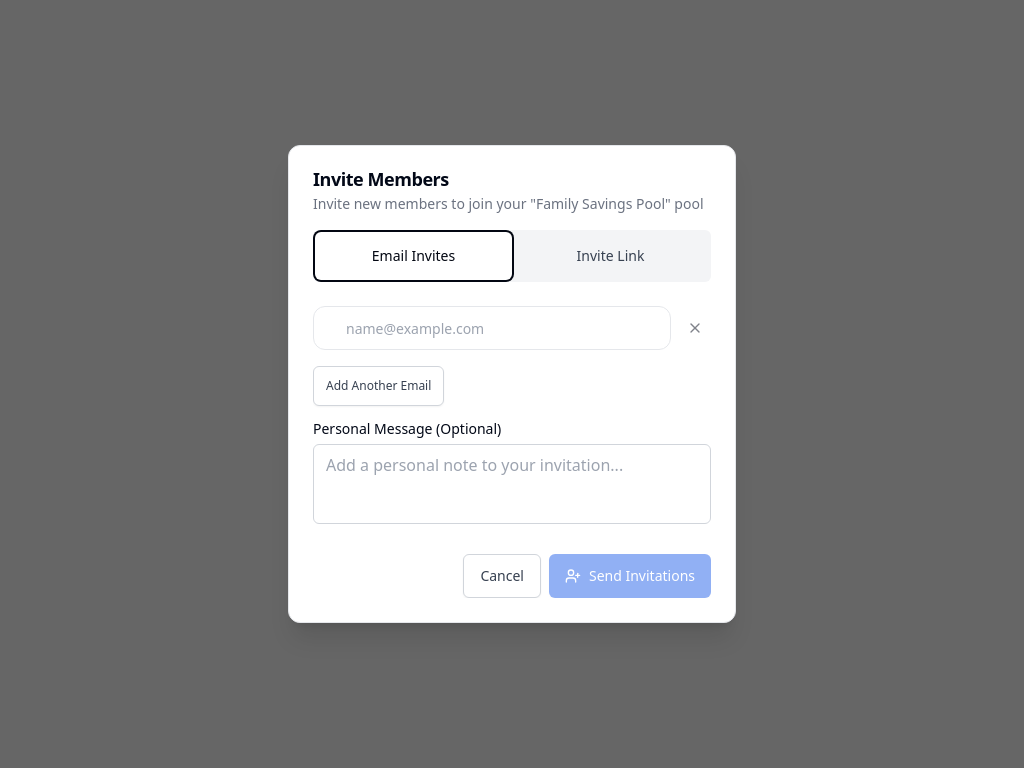
Test: InviteMembersDialog Component › Email Invites Tab › removes email field when remove button is clicked
// Add two more email fields
Step 1. Click the button "Add Another Email" → (379, 386), box [313, 366, 444, 406]
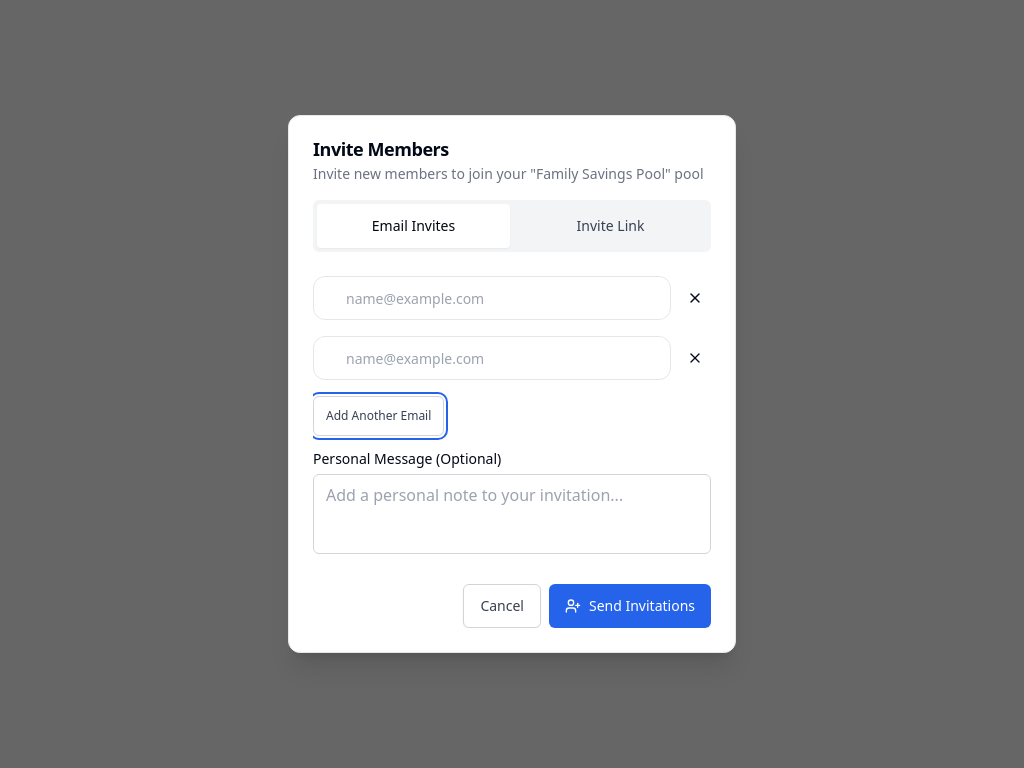
Step 2. Click the button "Add Another Email" → (379, 416), box [313, 396, 444, 436]
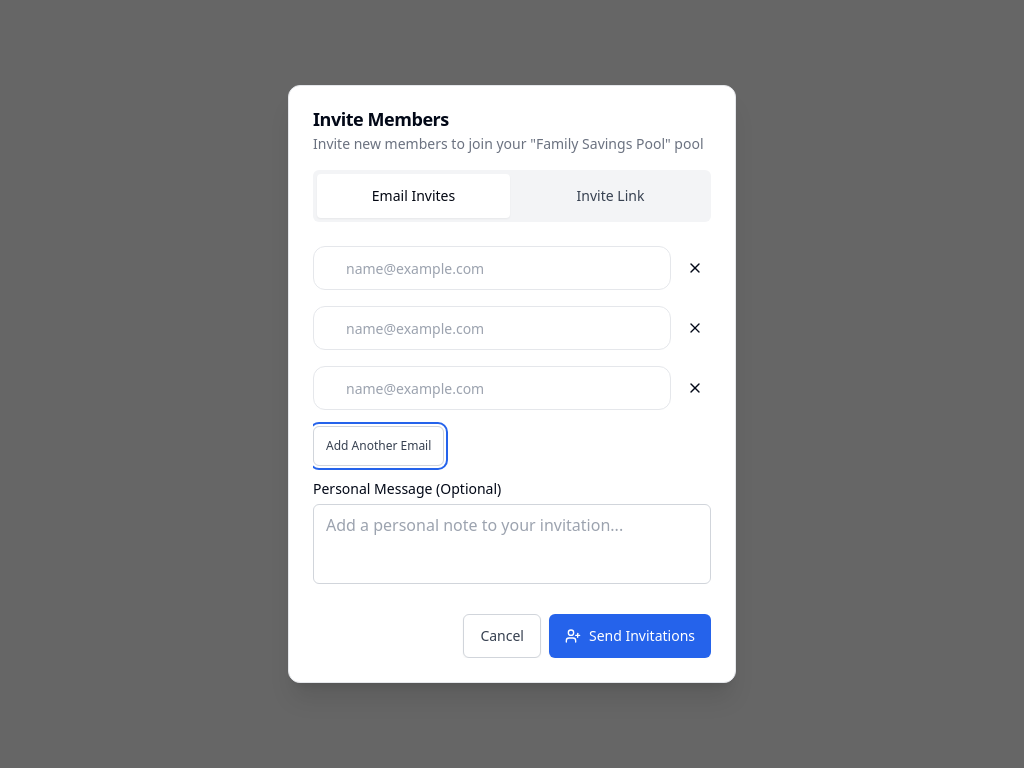
Result: the number of fields with placeholder "name@example.com" is 3 at [313, 246, 671, 290]; [313, 306, 671, 350]; [313, 366, 671, 410]
Step 3. Click the button named "Remove email 1" → (695, 268), box [679, 250, 711, 286]
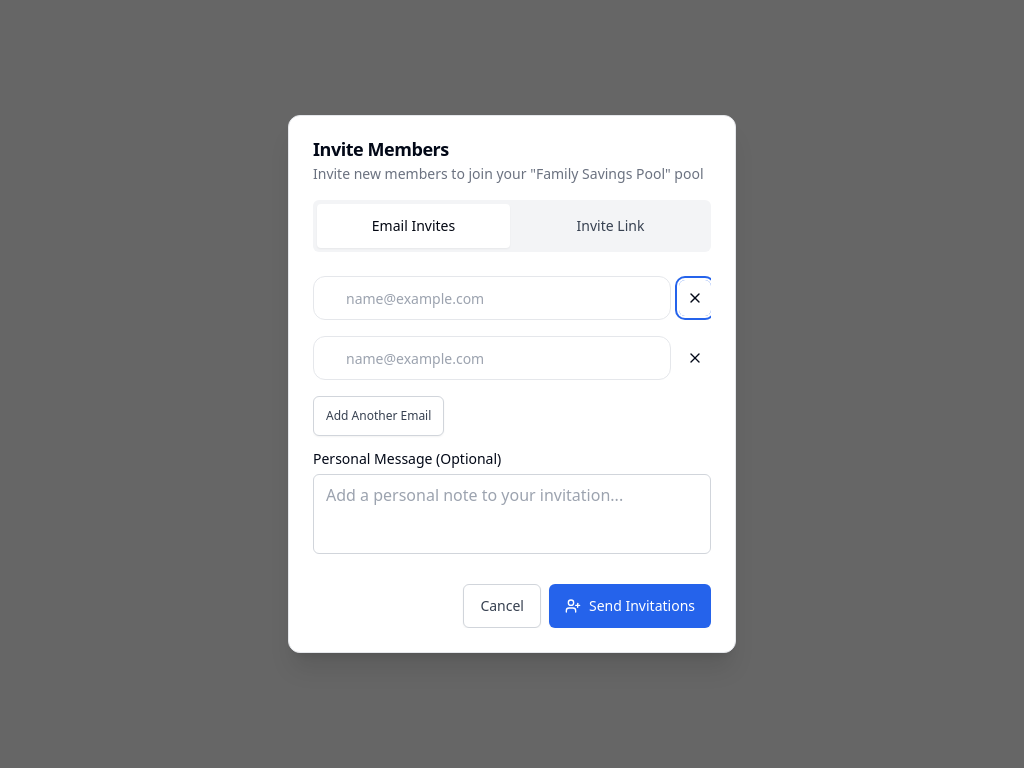
Result: the number of fields with placeholder "name@example.com" is 2 at [313, 276, 671, 320]; [313, 336, 671, 380]
